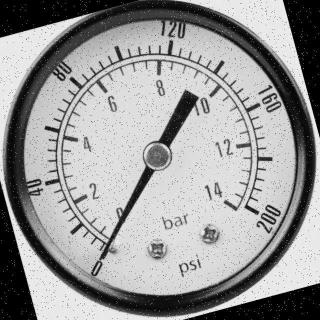gauge: (0, 0, 320, 320), (81, 240, 122, 280), (138, 136, 176, 174), (243, 198, 272, 226), (90, 246, 113, 268)
